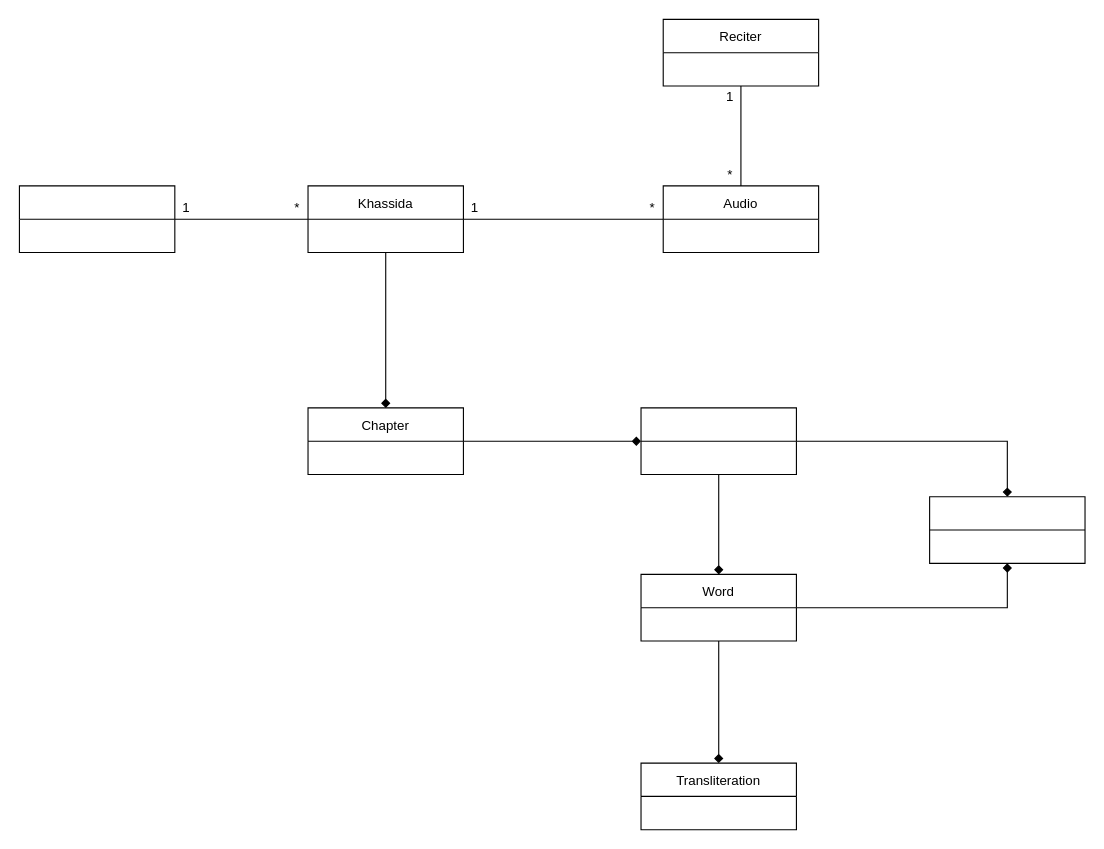
Some shapes in this 1104 by 849 pixel diagram are drawn without their labels. Each missing label, with the centre of its shape:
Author: the point at 96,219
Translation: the point at 1007,529
Verse: the point at 718,441
